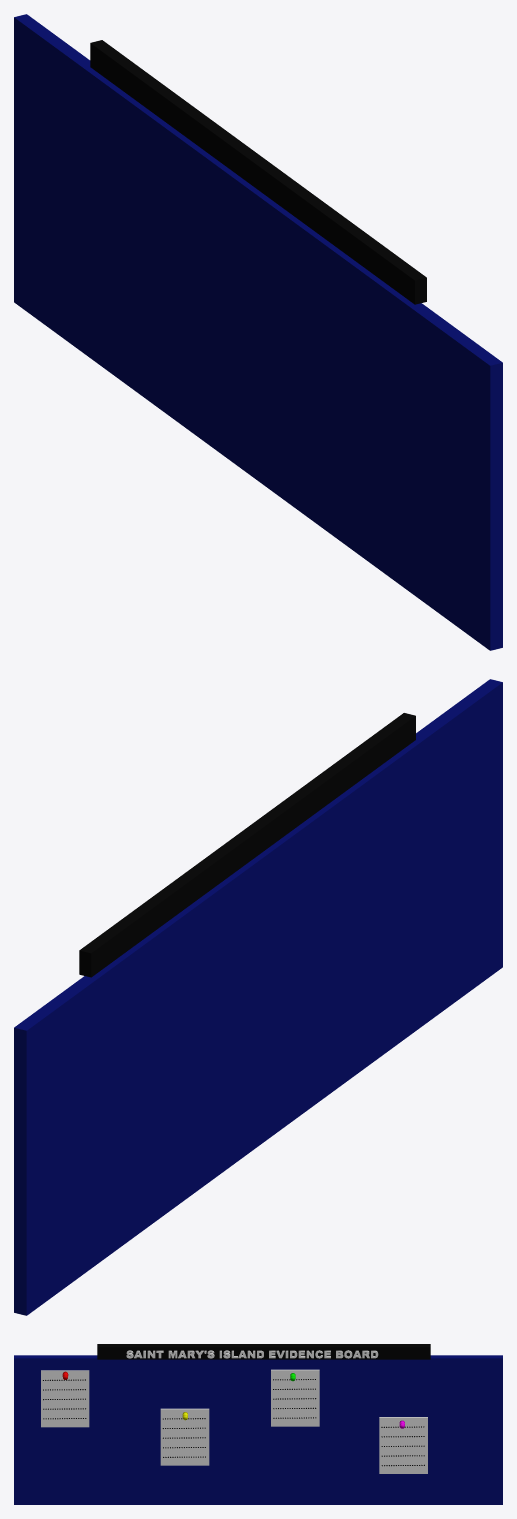
Rendered from STMIslandEvidenceBoard.fbx.
3 renders of one model, top to bottom at view 1: azimuth 30°, elevation 25°; view 2: azimuth 150°, elevation 25°; view 3: azimuth 270°, elevation 25°, orthographic. The views are drawn at different scales.
Parts seen in each view (by area): view 1: EvidenceBoard, Cube.043; view 2: EvidenceBoard, Cube.043; view 3: EvidenceBoard, Cube.043, Cube.001, Cube.002, Cube, Cube.003, Text.003, Text, Text.004, Text.002, Text.001.
Part boxes in pixels (x1,y1,x2,y2): EvidenceBoard: [14, 14, 502, 650]; Cube.043: [90, 40, 426, 304]; EvidenceBoard: [14, 679, 502, 1315]; Cube.043: [79, 713, 415, 977]; EvidenceBoard: [14, 1355, 502, 1504]; Cube.043: [97, 1344, 430, 1359]; Cube.001: [160, 1408, 209, 1465]; Cube.002: [271, 1369, 319, 1426]; Cube: [41, 1370, 89, 1427]; Cube.003: [379, 1417, 427, 1473]; Text.003: [126, 1350, 378, 1358]; Text: [43, 1379, 86, 1419]; Text.004: [381, 1426, 424, 1466]; Text.002: [273, 1379, 316, 1418]; Text.001: [162, 1418, 205, 1457].
Bounding box in the file's own units: 0.2178 × 1.93 × 5.38.
